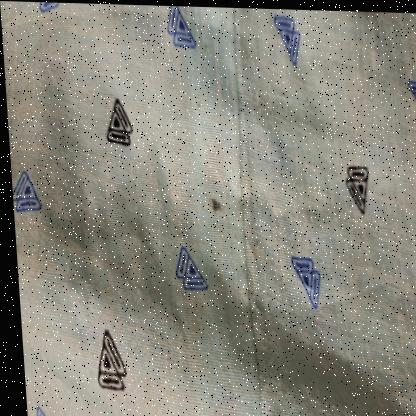spot: (200, 191, 224, 215), (192, 96, 199, 108)
